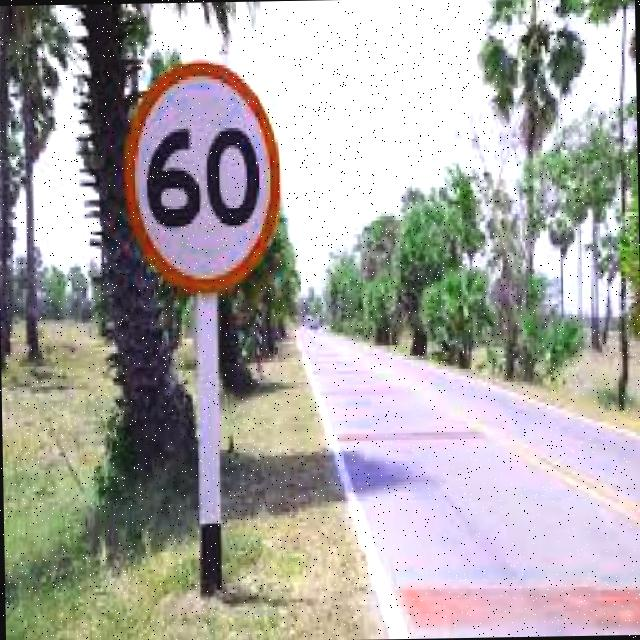Ograniczenie predkosci do 60: (128, 70, 279, 290)
